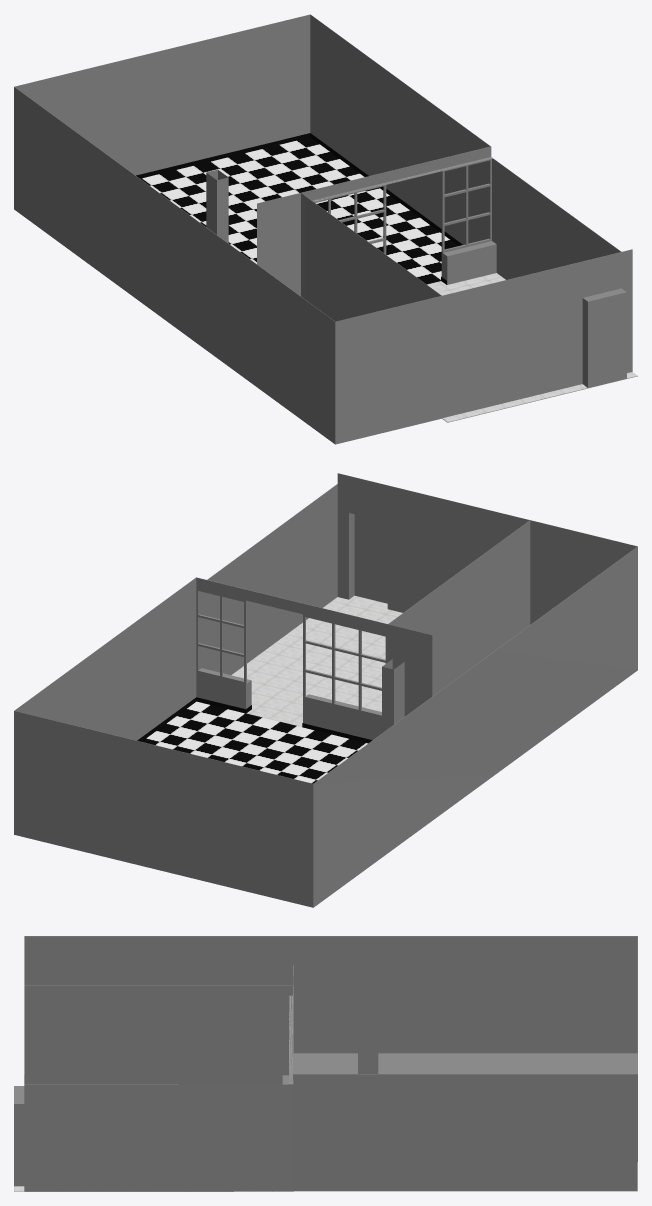
The model's file is Wall.FBX.
3 views of the same model, one above another, from view 1: azimuth 30°, elevation 25°; view 2: azimuth 150°, elevation 25°; view 3: azimuth 270°, elevation 25° (orthographic). The views are drawn at different scales.
Parts seen in each view (by area): view 1: Floor_01, W_store02, Wall, Wall_01, Win_Edge_003, Object195; view 2: Floor_01, W_store02, Object195, Win_Edge_003, Wall, Wall_01; view 3: Floor_01, W_store02, Wall, Wall_01.
Boxes of the visible parts, <box> form: Floor_01: <box>14,14,490,444</box>; W_store02: <box>257,158,637,422</box>; Wall: <box>136,133,462,284</box>; Wall_01: <box>301,146,493,202</box>; Win_Edge_003: <box>315,159,491,254</box>; Object195: <box>441,241,496,284</box>; Floor_01: <box>14,520,637,907</box>; W_store02: <box>199,473,530,726</box>; Object195: <box>196,668,381,739</box>; Win_Edge_003: <box>196,588,387,717</box>; Wall: <box>137,659,404,743</box>; Wall_01: <box>196,577,387,634</box>; Floor_01: <box>24,936,637,1191</box>; W_store02: <box>14,965,293,1191</box>; Wall: <box>358,962,378,1073</box>; Wall_01: <box>289,986,293,1084</box>.
Bounding box in the file's own units: 763 × 301 × 1451.
